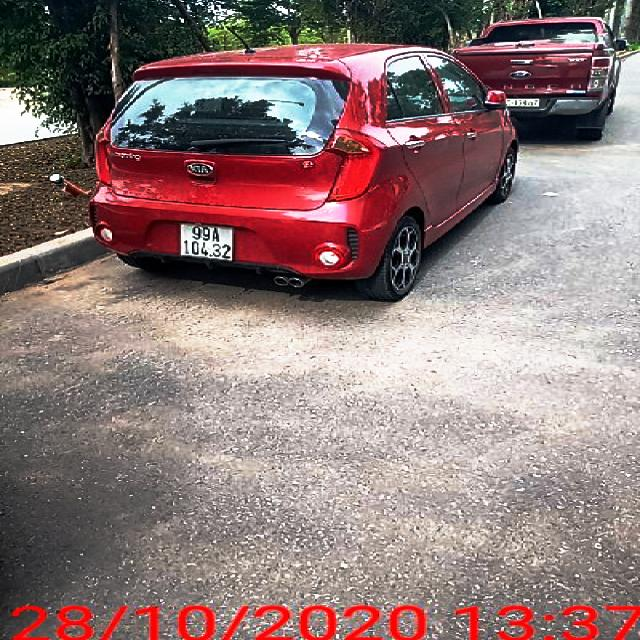license_plate: (182, 224, 234, 261)
